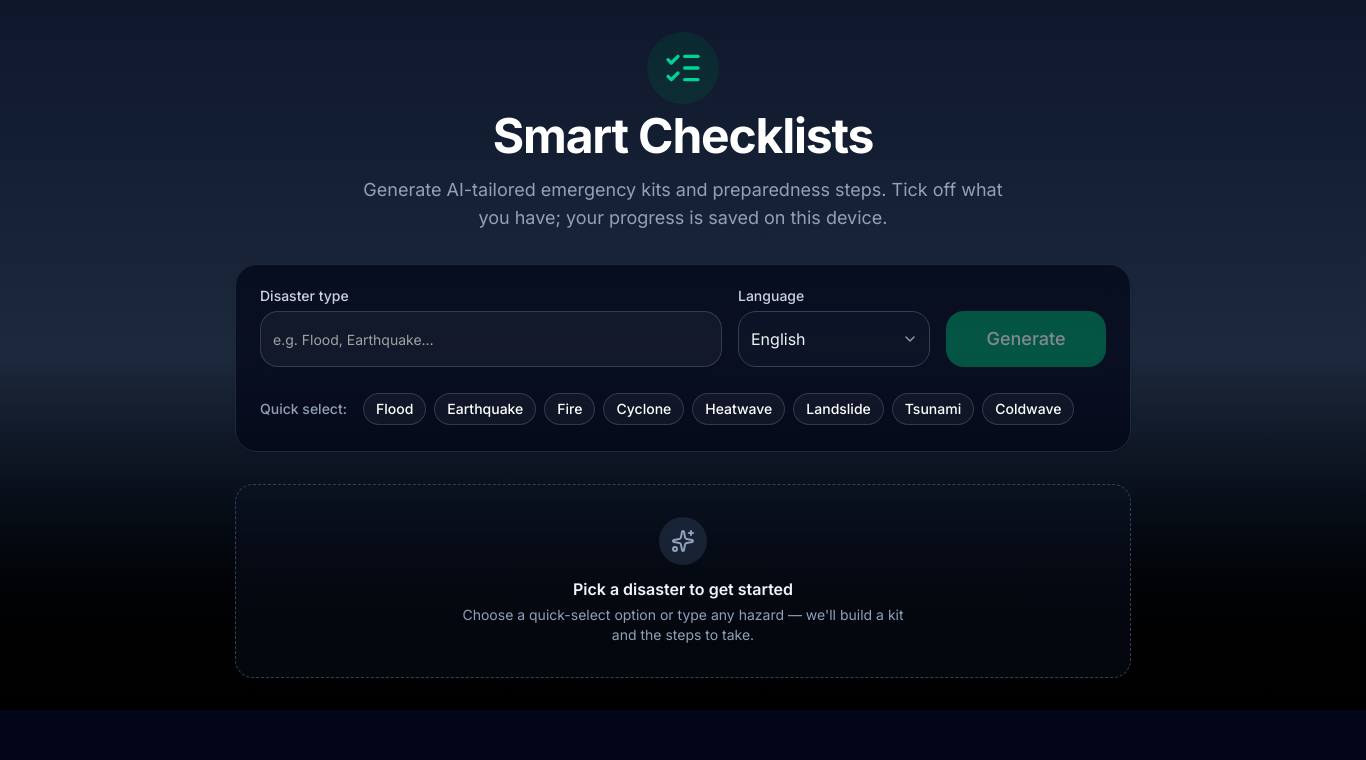
ChecklistView › generates a checklist through the same-origin API proxy (never the backend directly)
The width and height of the screenshot is (1366, 760).
expect the text "Pick a disaster to get started" is shown: met, box [573,579,793,599]
Click the button "Flood": click(395, 409) [363,393,426,425]
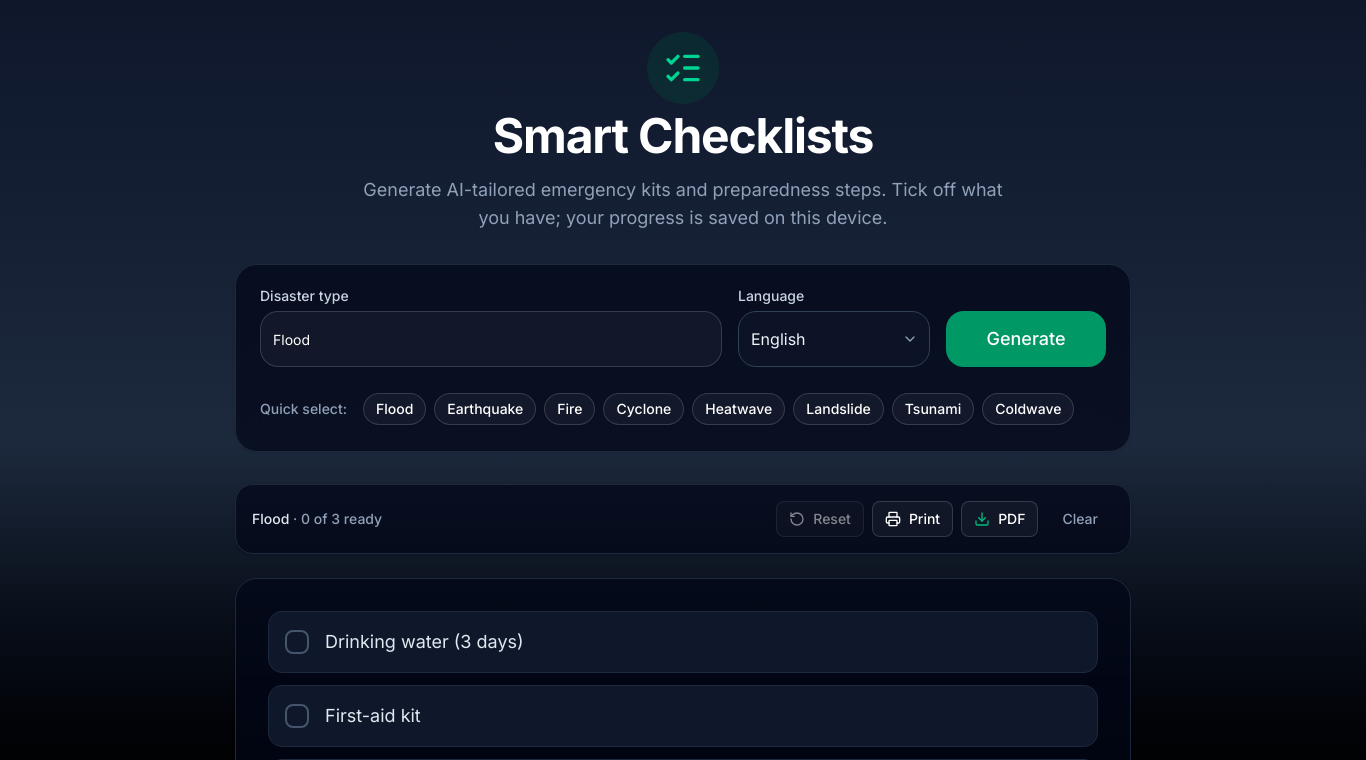
expect the checkbox labelled "First-aid kit" is shown: met, box [268,685,1098,747]
expect the text "Flood · 0 of 3 ready" is shown: met, box [252,509,382,529]
